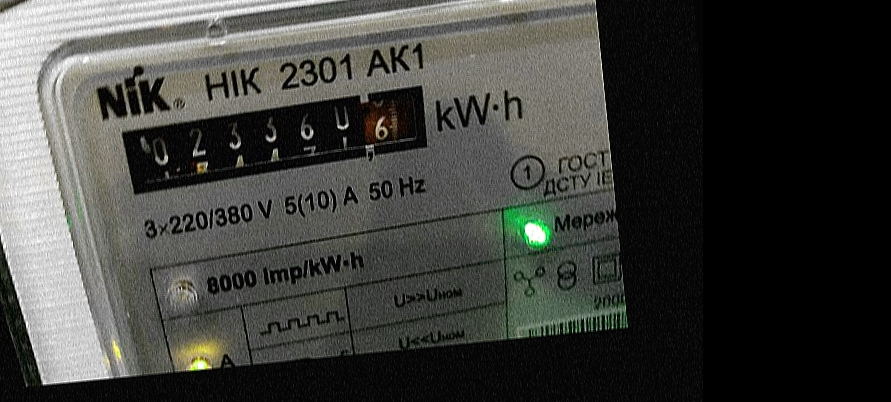0: (148, 131, 173, 167), (329, 99, 354, 132)
2: (186, 122, 210, 157)
3: (259, 108, 282, 143), (222, 118, 244, 151)
6: (294, 107, 319, 142), (370, 108, 394, 143)
screen: (103, 73, 449, 201)
